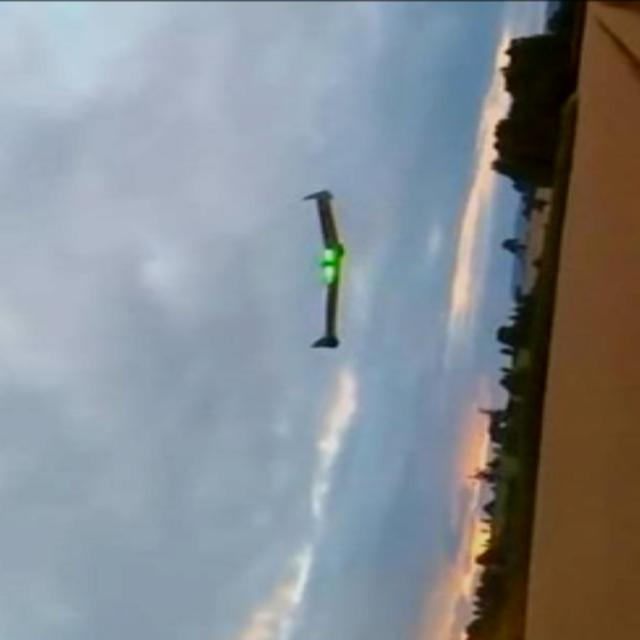plane: (301, 189, 345, 351)
